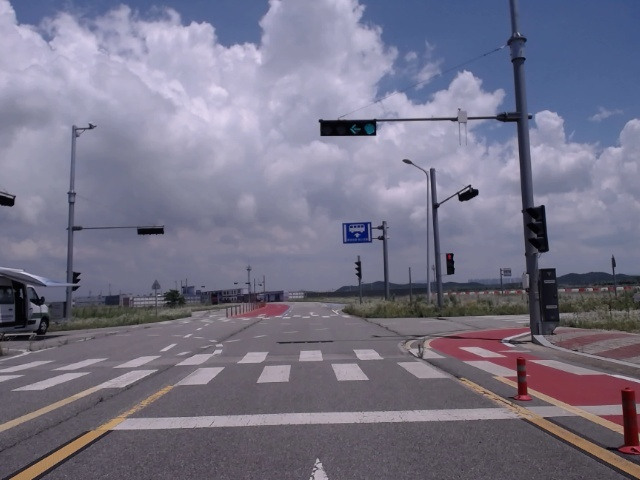all_green_4: (319, 117, 377, 134)
